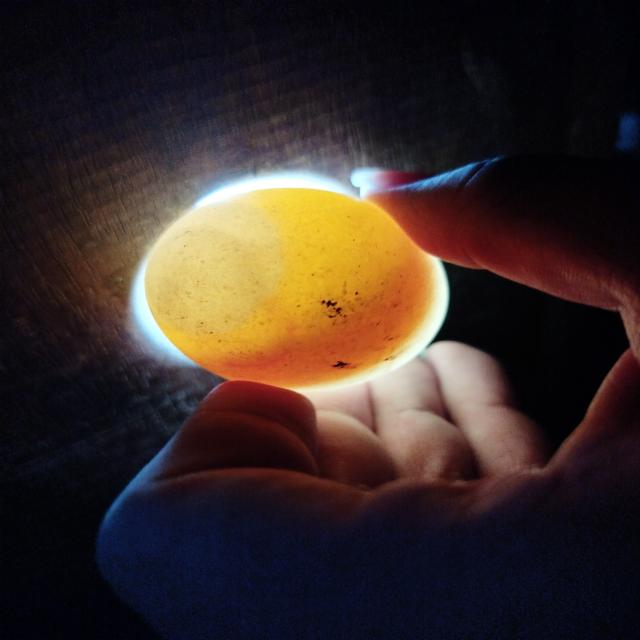Camara de Ar: (144, 198, 288, 335)
